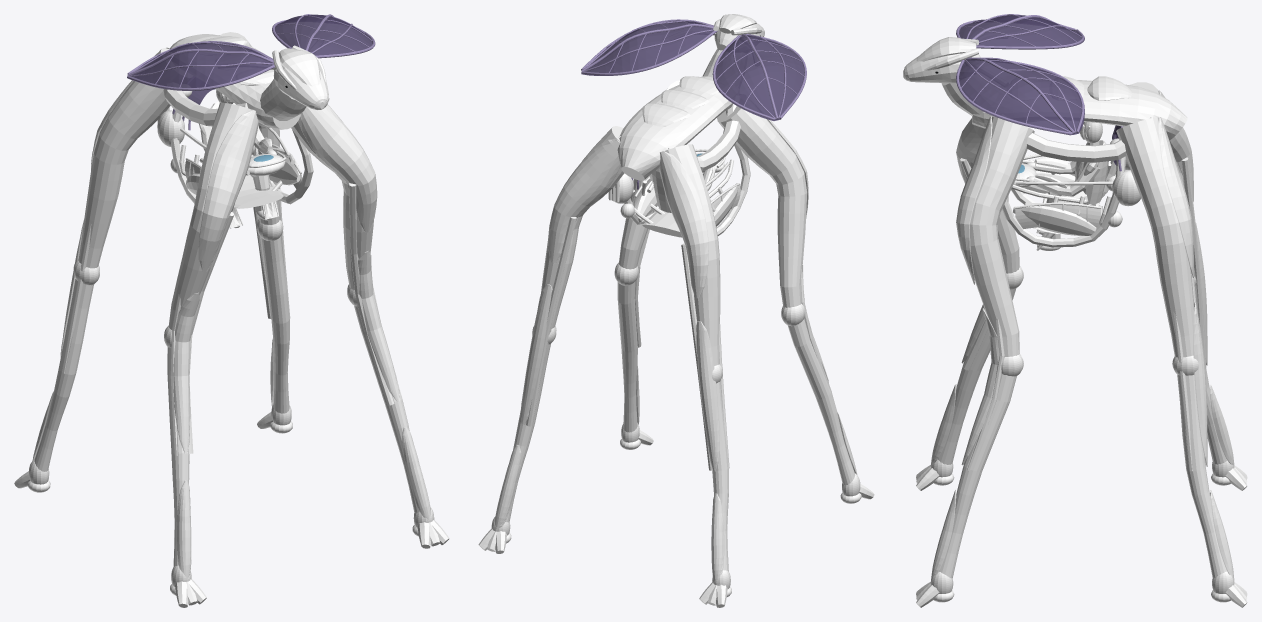
The model's file is GreatStrider.obj.
The picture shows the model from 3 angles, left to right: view 1: azimuth 30°, elevation 25°; view 2: azimuth 150°, elevation 25°; view 3: azimuth 270°, elevation 25°; orthographic projection. The views are drawn at different scales.
Parts seen in each view (by area): view 1: Ilyth_Limb_L_Rear, Ilyth_Limb_L_Fore, Ilyth_GrownSheath_L_Fore0, Ilyth_GrownSheath_R_Fore0, Ilyth_SensorySail_L, Ilyth_Limb_R_Rear, Ilyth_Limb_R_Fore, Ilyth_SensorySail_R, Ilyth_GrownSheath_L_Fore1, Ilyth_GrownSheath_R_Fore1, Ilyth_Torso, Ilyth_Flexor_R_Fore (+12 smaller); view 2: Ilyth_Limb_L_Fore, Ilyth_SensorySail_L, Ilyth_Limb_L_Rear, Ilyth_Torso, Ilyth_GrownSheath_R_Rear0, Ilyth_GrownSheath_L_Rear0, Ilyth_Limb_R_Fore, Ilyth_SensorySail_R, Ilyth_Limb_R_Rear, Ilyth_GrownSheath_L_Rear1, Ilyth_GrownSheath_R_Rear1, Ilyth_Flexor_R_Rear (+8 smaller); view 3: Ilyth_Limb_R_Fore, Ilyth_Limb_R_Rear, Ilyth_SensorySail_R, Ilyth_Torso, Ilyth_Limb_L_Fore, Ilyth_SensorySail_L, Ilyth_GrownSheath_R_Fore0, Ilyth_GrownSheath_R_Rear0, Ilyth_ThoracicArc_R, Cradle_LoadFrame_R, Cradle_CeramicShell_R, Ilyth_GrownSheath_R_Rear1 (+22 smaller).
Part boxes in pixels (x1,y1,x2,y2): Ilyth_Limb_L_Rear: (34,48,170,471); Ilyth_Limb_L_Fore: (167,103,251,566); Ilyth_GrownSheath_L_Fore0: (198,109,258,272); Ilyth_GrownSheath_R_Fore0: (298,106,377,232); Ilyth_SensorySail_L: (133,42,272,87); Ilyth_Limb_R_Rear: (220,32,289,413); Ilyth_Limb_R_Fore: (291,104,419,512); Ilyth_SensorySail_R: (275,14,372,55); Ilyth_GrownSheath_L_Fore1: (173,292,199,453); Ilyth_GrownSheath_R_Fore1: (354,251,399,401); Ilyth_Torso: (170,34,300,129); Ilyth_Flexor_R_Fore: (349,183,394,405); Ilyth_Limb_L_Fore: (717,106,854,485); Ilyth_SensorySail_L: (715,36,804,120); Ilyth_Limb_L_Rear: (664,144,728,571); Ilyth_Torso: (617,76,732,180); Ilyth_GrownSheath_R_Rear0: (548,139,620,263); Ilyth_GrownSheath_L_Rear0: (659,151,708,298); Ilyth_Limb_R_Fore: (617,80,679,432); Ilyth_SensorySail_R: (581,21,713,75); Ilyth_Limb_R_Rear: (505,126,624,522); Ilyth_GrownSheath_L_Rear1: (696,321,719,471); Ilyth_GrownSheath_R_Rear1: (520,284,553,424); Ilyth_Flexor_R_Rear: (526,217,576,426); Ilyth_Limb_R_Fore: (939,117,1034,578); Ilyth_Limb_R_Rear: (1116,117,1226,578); Ilyth_SensorySail_R: (959,58,1084,134); Ilyth_Torso: (972,80,1187,140); Ilyth_Limb_L_Fore: (938,154,1019,464); Ilyth_SensorySail_L: (959,15,1084,47); Ilyth_GrownSheath_R_Fore0: (956,116,992,284); Ilyth_GrownSheath_R_Rear0: (1158,117,1193,277); Ilyth_ThoracicArc_R: (1026,117,1151,162); Cradle_LoadFrame_R: (1002,156,1125,247); Cradle_CeramicShell_R: (1013,205,1096,235); Ilyth_GrownSheath_R_Rear1: (1193,302,1207,466).
Size of the model in its own units: 3.32 by 6 by 3.71.
